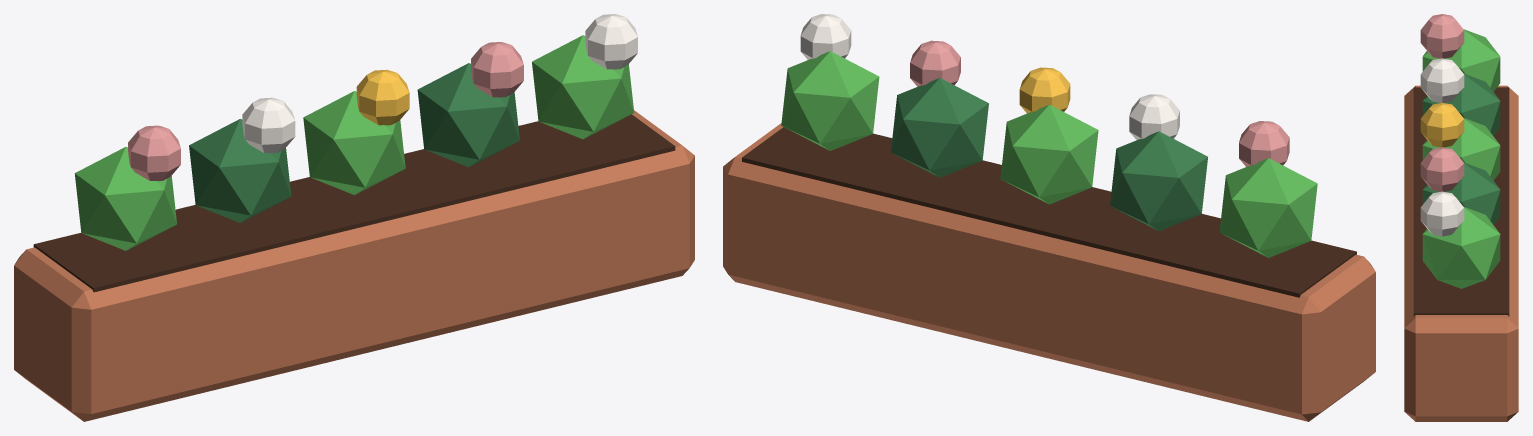
Rendered from CatCafe_Decor_WindowPlants.glb.
3 renders of one model, left to right at view 1: azimuth 30°, elevation 25°; view 2: azimuth 150°, elevation 25°; view 3: azimuth 270°, elevation 25°, orthographic. The views are drawn at different scales.
Parts seen in each view (by area): view 1: CatCafe_Decor_WindowPlants; view 2: CatCafe_Decor_WindowPlants; view 3: CatCafe_Decor_WindowPlants.
Boxes of the visible parts, x1,y1,x2,y2 form: CatCafe_Decor_WindowPlants: (14,14,694,421); CatCafe_Decor_WindowPlants: (723,14,1375,421); CatCafe_Decor_WindowPlants: (1404,14,1518,421).
Size of the model in its own units: 3 by 1.2 by 0.6.
Materials: 1 (1 with a texture image).
